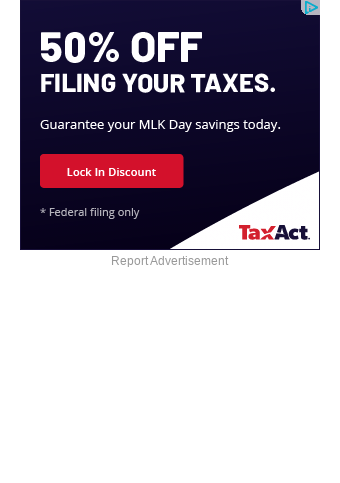fake_button: (35, 152, 191, 200)
